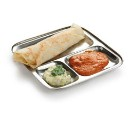dosa: (12, 24, 89, 58)
